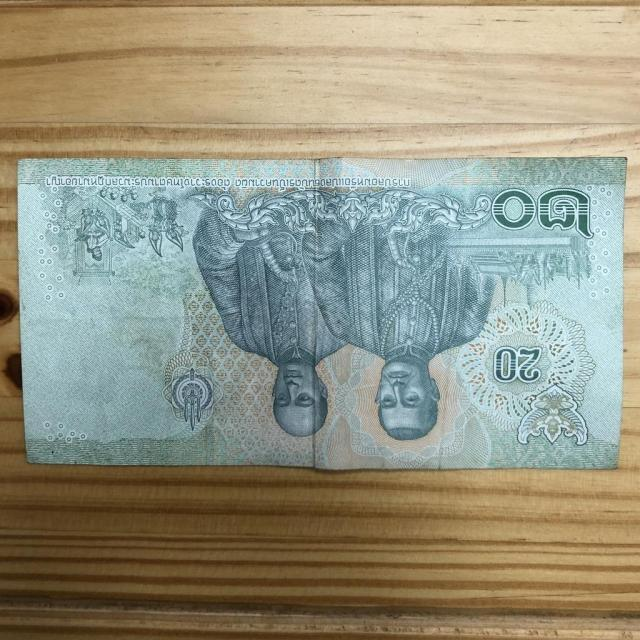THAI20: (18, 158, 626, 469)
